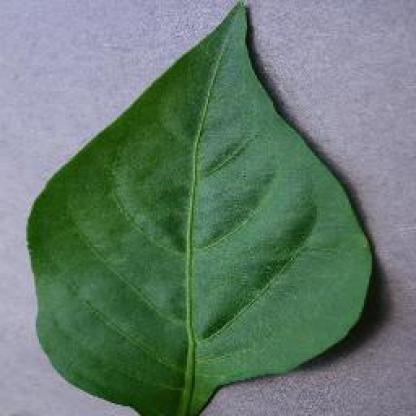good leaf: (68, 17, 332, 389)
